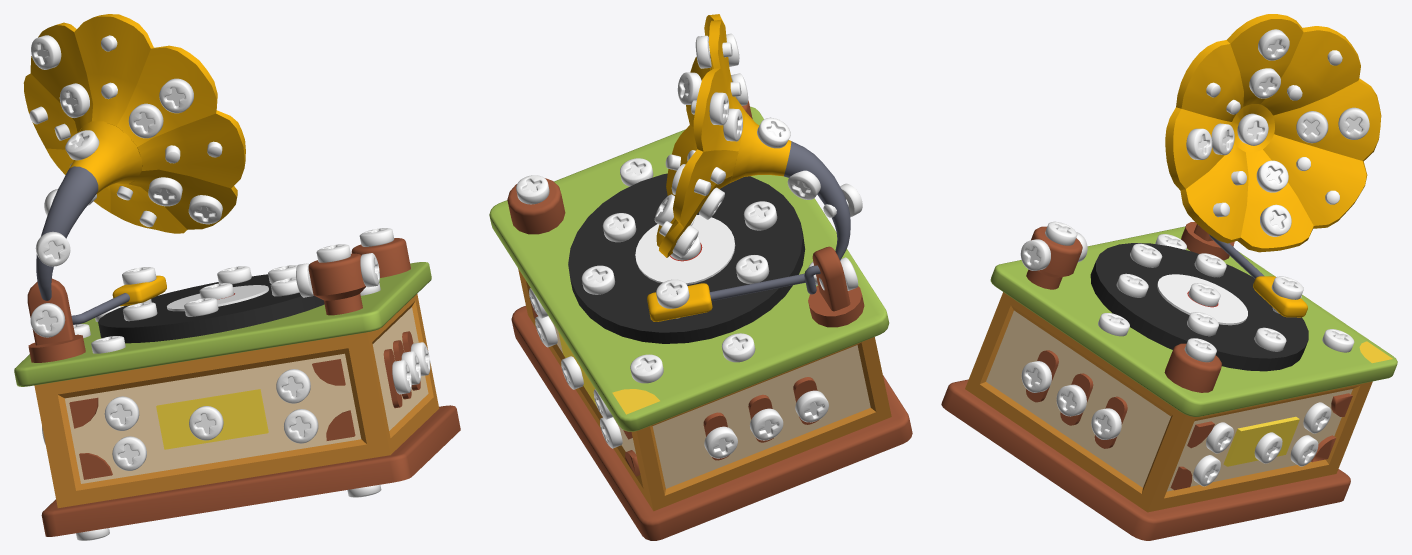
Rendered from VintagePlayer_GroupE.fbx.
3 renders of one model, left to right at view 1: azimuth 30°, elevation 25°; view 2: azimuth 150°, elevation 25°; view 3: azimuth 270°, elevation 25°, orthographic. The views are drawn at different scales.
Parts seen in each view (by area): view 1: VintagePlayer_035, VintagePlayer_036, VintagePlayer_034, VintagePlayer_033, VintagePlayer_001, Screw (×8), VintagePlayer_012, VintagePlayer_014, VintagePlayer_013, Screw (1) (×5), VintagePlayer_007, VintagePlayer_008 (+17 smaller); view 2: VintagePlayer_034, VintagePlayer_001, VintagePlayer_031, VintagePlayer_036, Screw (×9), Screw (1) (×6), VintagePlayer_032, VintagePlayer_008, VintagePlayer_010, Screw (2) (×3), Screw (4) (×3), VintagePlayer_007 (+9 smaller); view 3: VintagePlayer_033, VintagePlayer_034, VintagePlayer_001, VintagePlayer_036, VintagePlayer_030, Screw (×11), Screw (1) (×7), VintagePlayer_009, VintagePlayer_011, VintagePlayer_010, VintagePlayer_015, VintagePlayer_013 (+13 smaller).
Part boxes in pixels (x1,y1,x2,y2): VintagePlayer_035: [55, 336, 369, 504]; VintagePlayer_036: [41, 405, 460, 536]; VintagePlayer_034: [14, 262, 431, 386]; VintagePlayer_033: [346, 294, 439, 458]; VintagePlayer_001: [98, 274, 324, 343]; Screw (×8): [30, 83, 394, 337]; VintagePlayer_012: [74, 14, 153, 126]; VintagePlayer_014: [137, 110, 245, 188]; VintagePlayer_013: [116, 45, 217, 146]; Screw (1) (×5): [31, 35, 379, 316]; VintagePlayer_007: [69, 121, 141, 194]; VintagePlayer_008: [36, 166, 98, 300]; VintagePlayer_034: [489, 106, 889, 431]; VintagePlayer_001: [568, 173, 805, 343]; VintagePlayer_031: [631, 337, 891, 511]; VintagePlayer_036: [511, 305, 912, 540]; Screw (×9): [516, 108, 862, 440]; Screw (1) (×6): [659, 35, 777, 458]; VintagePlayer_032: [647, 265, 820, 321]; VintagePlayer_008: [784, 141, 850, 260]; VintagePlayer_010: [673, 149, 738, 227]; Screw (2) (×3): [535, 265, 828, 422]; Screw (4) (×3): [600, 255, 769, 448]; VintagePlayer_007: [730, 112, 791, 182]; VintagePlayer_033: [965, 292, 1195, 512]; VintagePlayer_034: [990, 226, 1397, 416]; VintagePlayer_001: [1090, 243, 1308, 371]; VintagePlayer_036: [941, 379, 1350, 540]; VintagePlayer_030: [1159, 384, 1360, 509]; Screw (×11): [1045, 68, 1328, 463]; Screw (1) (×7): [1020, 29, 1369, 453]; VintagePlayer_009: [1263, 134, 1367, 228]; VintagePlayer_011: [1260, 26, 1360, 115]; VintagePlayer_010: [1273, 78, 1381, 161]; VintagePlayer_015: [1180, 143, 1248, 243]; VintagePlayer_013: [1176, 40, 1243, 121].
Bounding box in the file's own units: 9.37 × 11.02 × 9.68.
Materials: 3 (2 with a texture image).
